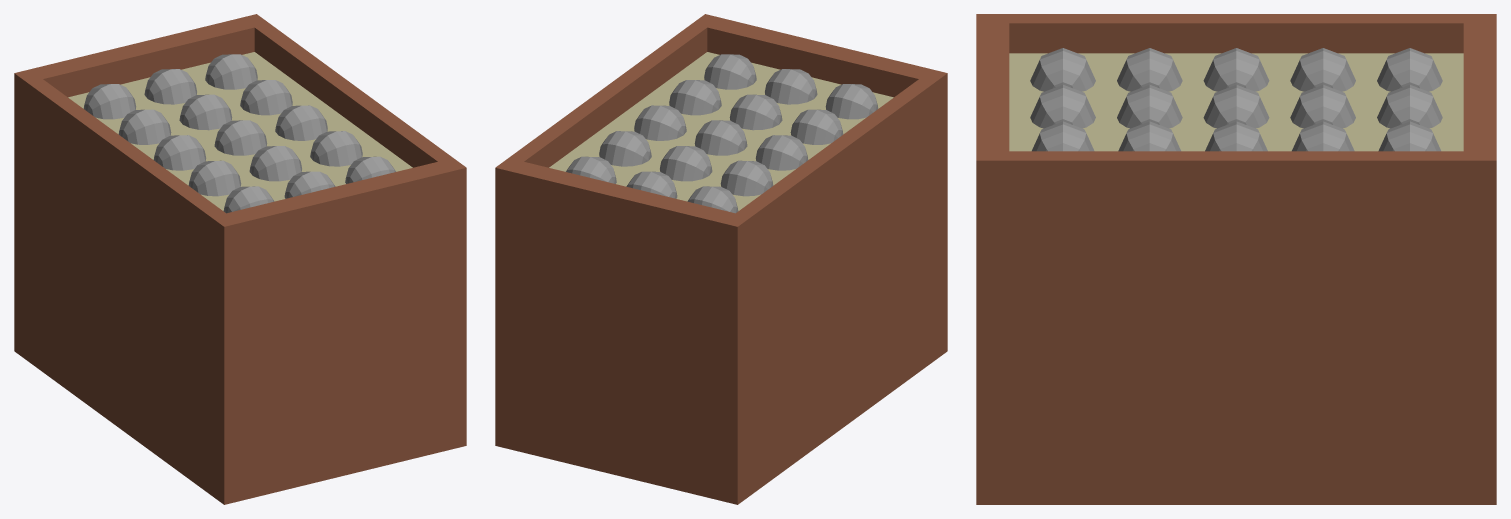
Rendered from BlackPowder.fbx.
3 views of the same model, side by side, from view 1: azimuth 30°, elevation 25°; view 2: azimuth 150°, elevation 25°; view 3: azimuth 270°, elevation 25° (orthographic). The views are drawn at different scales.
Parts seen in each view (by area): view 1: BulletBox; view 2: BulletBox; view 3: BulletBox.
Part boxes in pixels (x1,y1,x2,y2): BulletBox: [14, 14, 466, 504]; BulletBox: [495, 14, 947, 504]; BulletBox: [976, 14, 1496, 504].
Size of the model in its own units: 0.1689 by 0.1126 by 0.1234.
